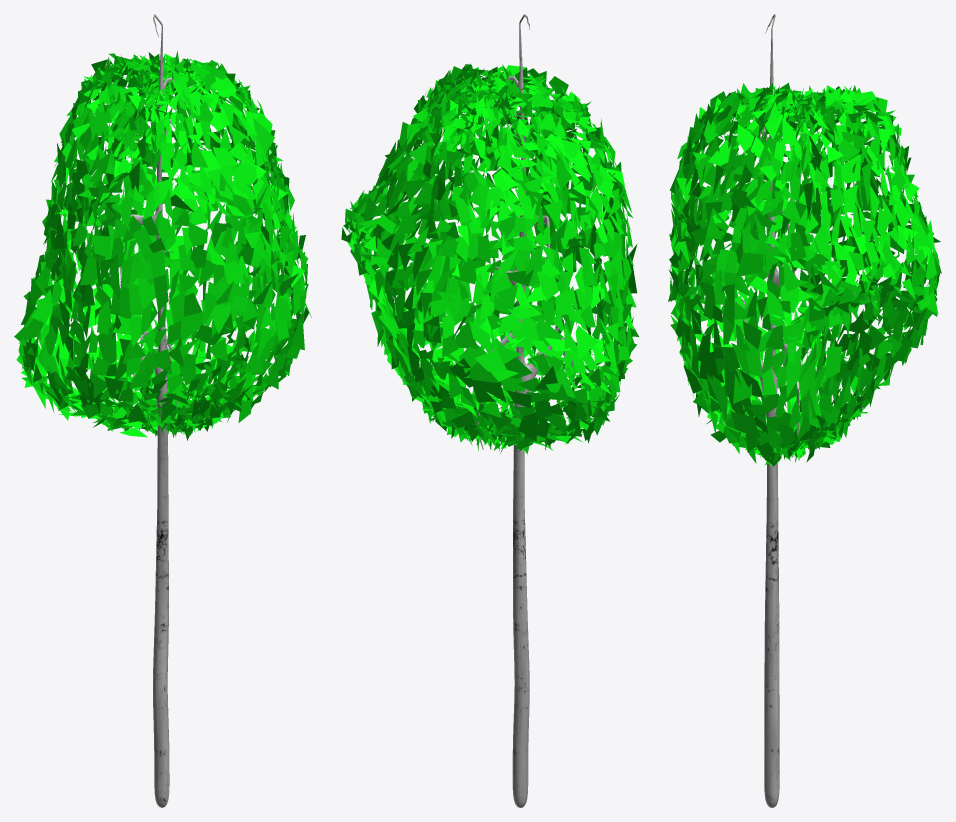
The model's file is Leaves51.001.fbx.
The picture shows the model from 3 angles, left to right: view 1: azimuth 30°, elevation 25°; view 2: azimuth 150°, elevation 25°; view 3: azimuth 270°, elevation 25°; orthographic projection.
Visible parts, largest first — view 1: Leaves51.001; view 2: Leaves51.001; view 3: Leaves51.001.
Part boxes in pixels (bbox=[...]): Leaves51.001: bbox=[14, 14, 311, 807]; Leaves51.001: bbox=[341, 14, 638, 807]; Leaves51.001: bbox=[668, 14, 941, 807].
Bounding box in the file's own units: 903 × 2612 × 820.
Materials: 2 (1 with a texture image).
